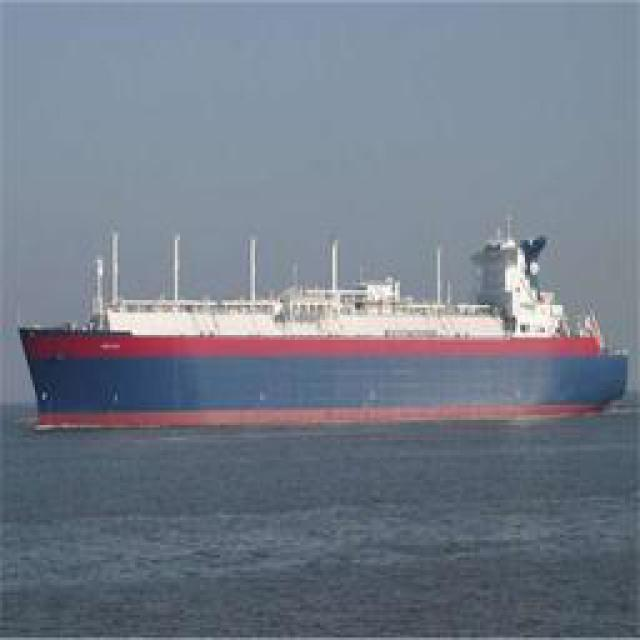Ship: (31, 214, 621, 419)
